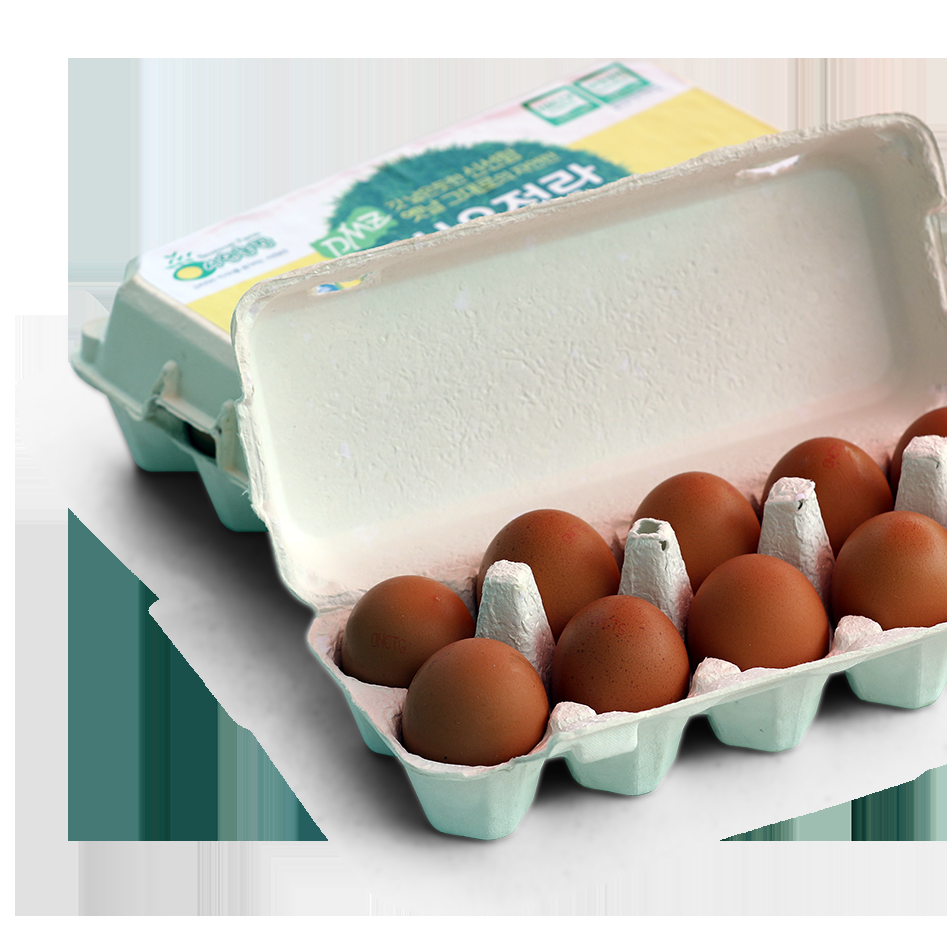egg: (343, 407, 947, 765)
